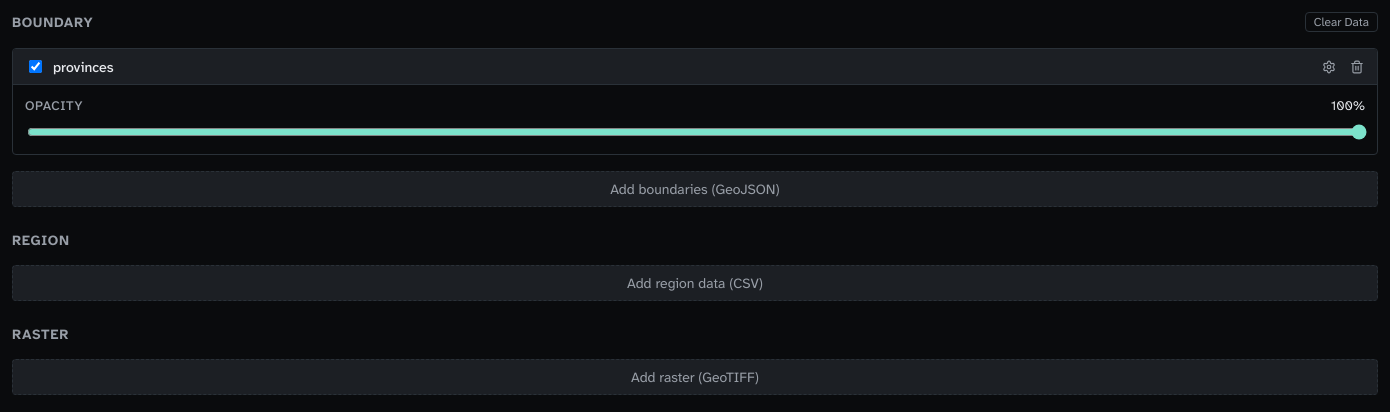
Test: LayersPanel › removing the last boundary hides Clear Data
This screenshot has width=1390, height=412.
Click the button with test id "boundary-remove-btn-ov-1": (1357, 66) [1345,54,1369,78]
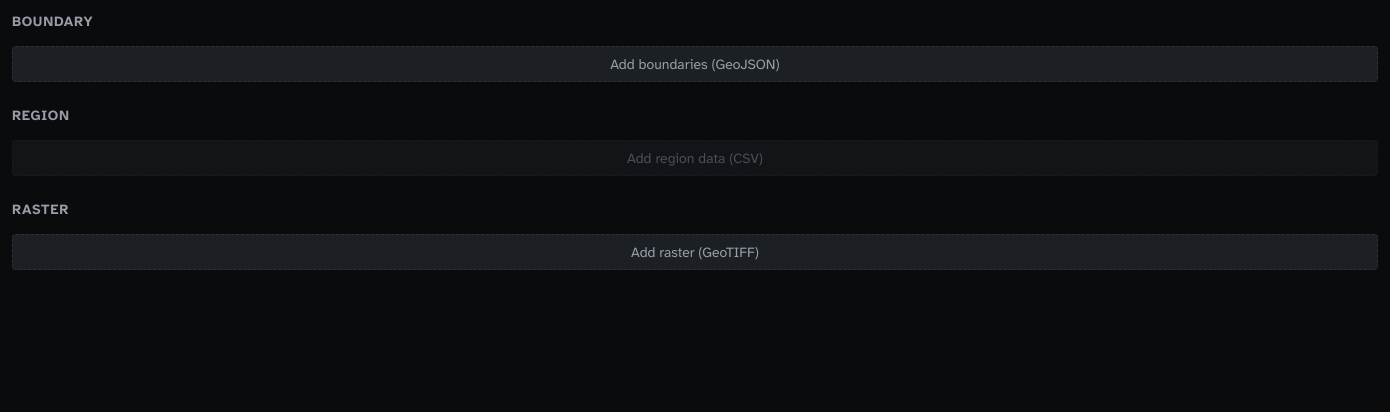
Result: the button with test id "clear-boundary-btn" is gone
